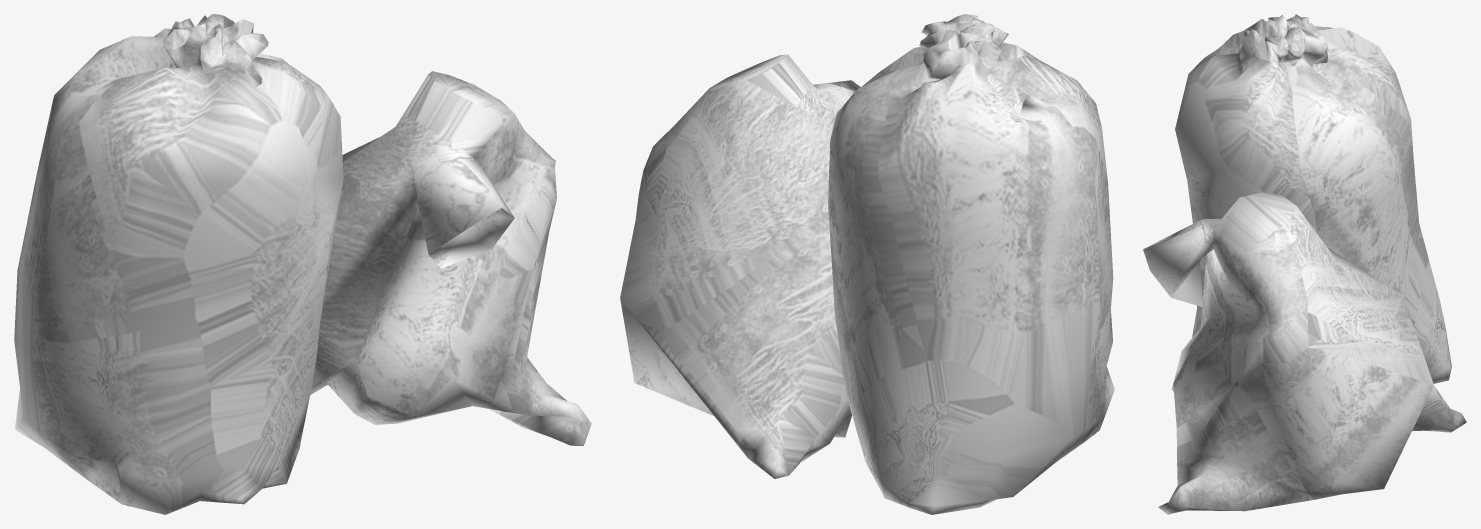
The model's file is cloth_bag.dae.
The picture shows the model from 3 angles, left to right: view 1: azimuth 30°, elevation 25°; view 2: azimuth 150°, elevation 25°; view 3: azimuth 270°, elevation 25°; orthographic projection. The views are drawn at different scales.
Visible parts, largest first — view 1: Plane.002, Plane.004; view 2: Plane.002, Plane.004; view 3: Plane.004, Plane.002.
Part boxes in pixels (<box>): Plane.002: <box>14,14,343,514</box>; Plane.004: <box>310,71,591,445</box>; Plane.002: <box>828,14,1114,514</box>; Plane.004: <box>620,54,860,478</box>; Plane.004: <box>1143,192,1466,514</box>; Plane.002: <box>1175,14,1451,383</box>.
Bounding box in the file's own units: 0.7577 × 0.5049 × 0.6404.
